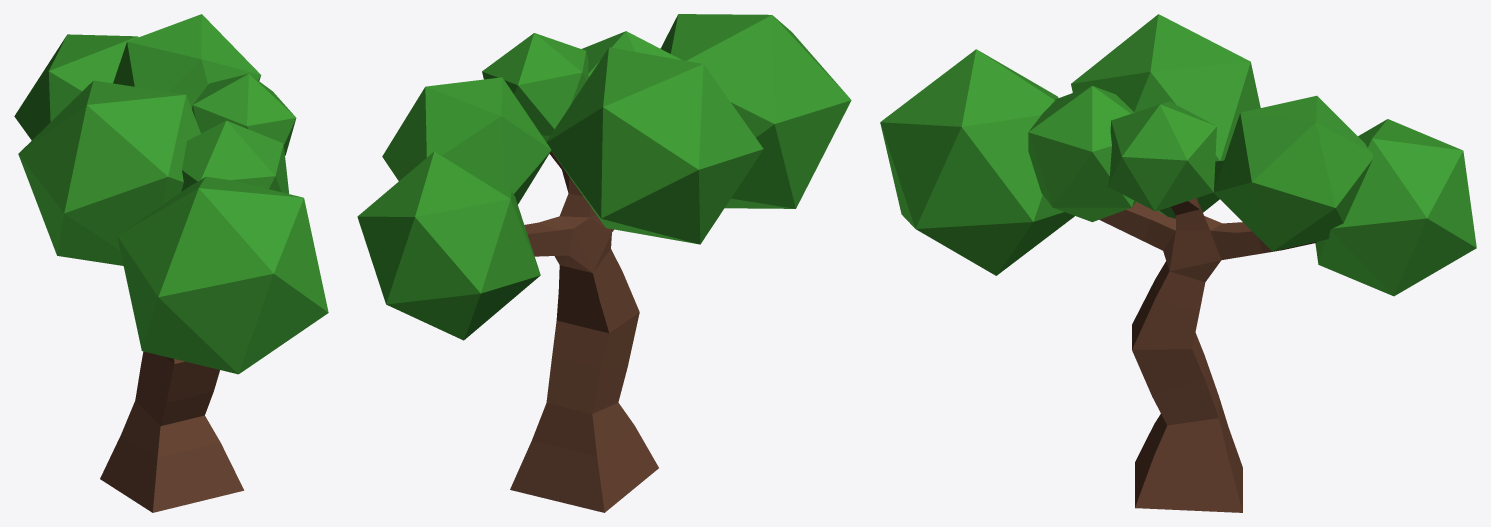
Rendered from thirdtree.fbx.
The picture shows the model from 3 angles, left to right: view 1: azimuth 30°, elevation 25°; view 2: azimuth 150°, elevation 25°; view 3: azimuth 270°, elevation 25°; orthographic projection. The views are drawn at different scales.
Parts seen in each view (by area): view 1: Icosphere.002, Icosphere.001, Cube, Icosphere; view 2: Icosphere.002, Cube, Icosphere.001, Icosphere; view 3: Icosphere.002, Icosphere.001, Cube, Icosphere.
Part boxes in pixels (x1,y1,x2,y2): Icosphere.002: (14, 14, 296, 265); Icosphere.001: (117, 176, 328, 374); Cube: (100, 351, 244, 512); Icosphere: (181, 120, 288, 193); Icosphere.002: (357, 33, 763, 340); Cube: (510, 151, 658, 512); Icosphere.001: (660, 14, 851, 208); Icosphere: (581, 31, 681, 76); Icosphere.002: (1071, 14, 1476, 296); Icosphere.001: (880, 49, 1074, 275); Cube: (1099, 198, 1316, 512); Icosphere: (1028, 85, 1136, 222).
Size of the model in its own units: 351 by 529 by 671.
